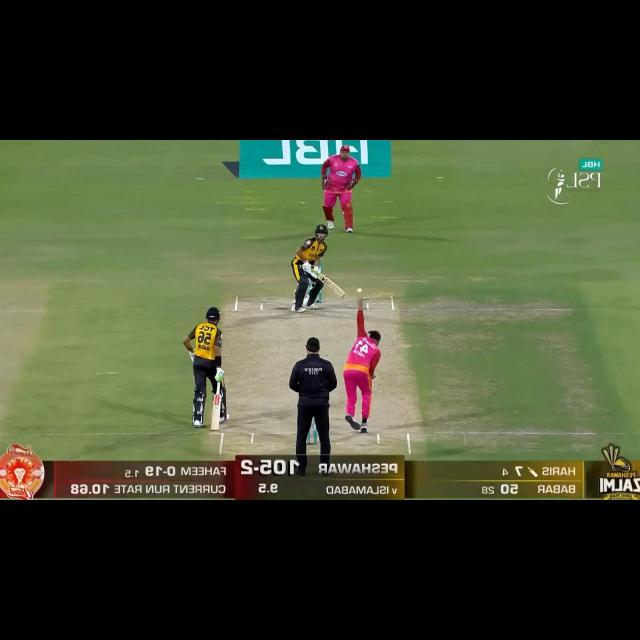bat: (317, 275, 345, 298), (210, 395, 221, 432)
toe: (334, 289, 347, 298), (209, 425, 219, 431)
